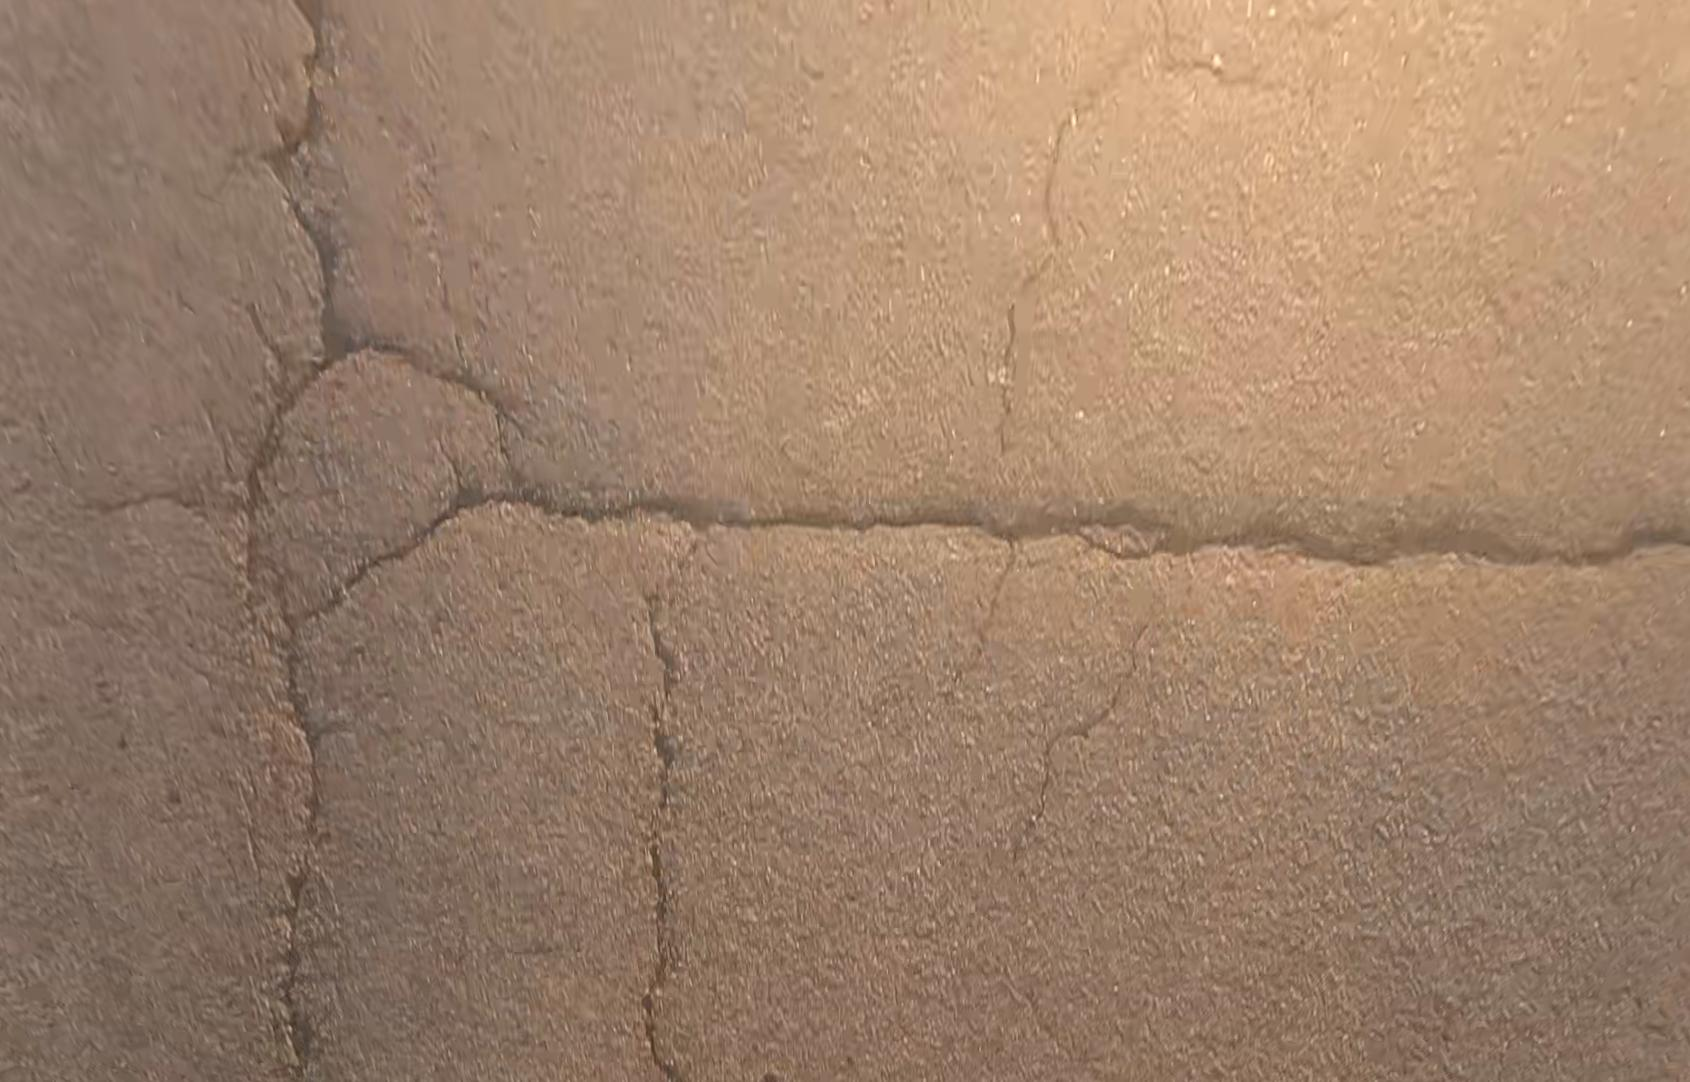pothole: (260, 298, 370, 404)
